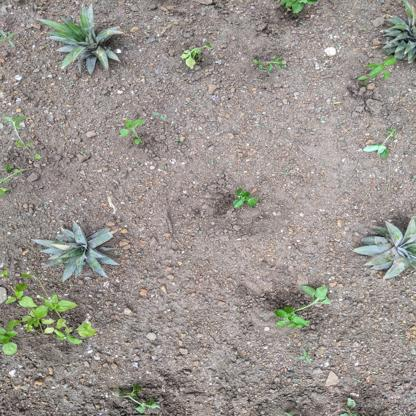pineapple: (33, 4, 136, 75), (30, 222, 125, 284), (353, 214, 416, 283), (377, 1, 416, 63)
weed: (3, 281, 95, 358), (273, 283, 337, 334), (117, 385, 171, 416), (182, 42, 219, 76), (225, 186, 262, 215), (366, 128, 399, 160), (116, 116, 150, 146), (252, 51, 291, 75)
